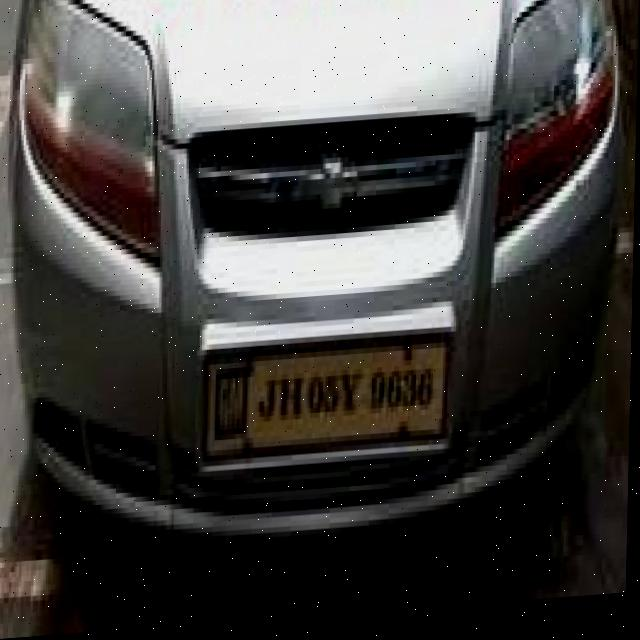plate: (252, 342, 451, 457)
